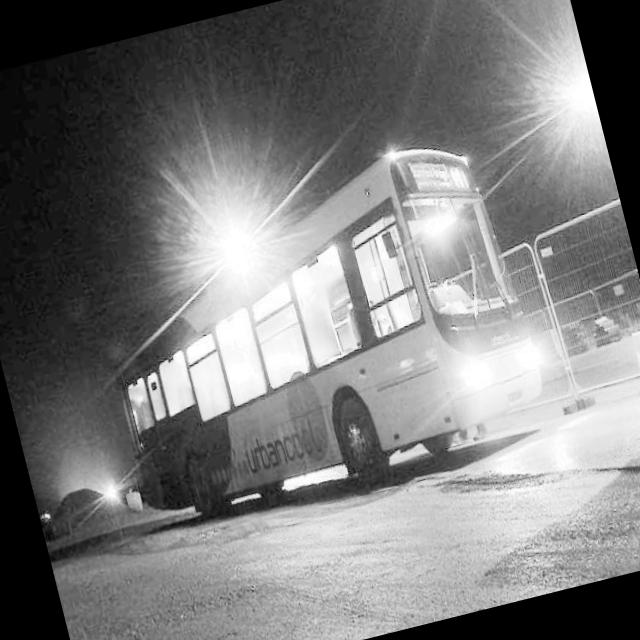Bus: (70, 90, 630, 560)
